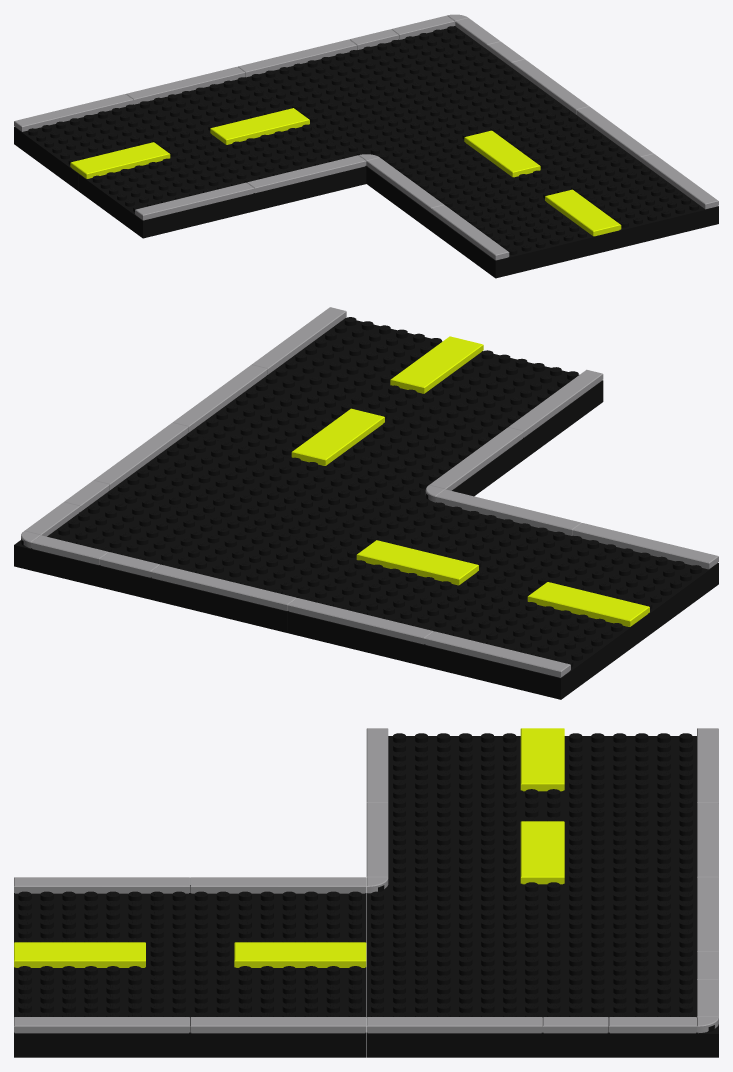
The model's file is Cornerroads.fbx.
The picture shows the model from 3 angles, top to bottom: view 1: azimuth 30°, elevation 25°; view 2: azimuth 150°, elevation 25°; view 3: azimuth 270°, elevation 25°; orthographic projection. The views are drawn at different scales.
Parts seen in each view (by area): view 1: part.010, part.001, part.008, part, part.009, part.011, part.017, part.016, part.007, part.006, part.015, part.014 (+12 smaller); view 2: part.011, part.009, part.008, part.001, part.010, part, part.016, part.017, part.007, part.006, part.012, part.013 (+12 smaller); view 3: part.008, part, part.009, part.011, part.010, part.001, part.006, part.007, part.004, part.020, part.005, part.003 (+12 smaller).
Part boxes in pixels (x1,y1,x2,y2): part.010: [78, 124, 366, 238]; part.001: [366, 142, 607, 278]; part.008: [308, 67, 576, 183]; part: [498, 114, 718, 250]; part.009: [245, 26, 511, 117]; part.011: [14, 77, 287, 190]; part.017: [70, 142, 170, 178]; part.016: [210, 108, 309, 144]; part.007: [545, 189, 621, 236]; part.006: [464, 130, 540, 177]; part.015: [135, 182, 254, 220]; part.014: [247, 155, 366, 193]; part.011: [287, 560, 639, 699]; part.009: [14, 490, 359, 632]; part.008: [109, 432, 436, 552]; part.001: [318, 350, 603, 496]; part.010: [383, 502, 718, 641]; part: [188, 317, 442, 462]; part.016: [356, 540, 478, 585]; part.017: [527, 582, 649, 626]; part.007: [390, 336, 483, 393]; part.006: [291, 408, 384, 465]; part.012: [424, 631, 570, 677]; part.013: [287, 598, 433, 644]; part.008: [366, 882, 542, 1057]; part: [14, 956, 366, 1057]; part.009: [542, 882, 718, 1057]; part.011: [542, 733, 696, 884]; part.010: [388, 733, 542, 884]; part.001: [14, 885, 366, 959]; part.006: [234, 942, 366, 967]; part.007: [14, 942, 145, 967]; part.004: [190, 1017, 366, 1033]; part.020: [366, 1017, 542, 1033]; part.005: [14, 1017, 189, 1033]; part.003: [190, 877, 366, 893].
Bounding box in the file's own units: 25596 × 1276 × 25596.
